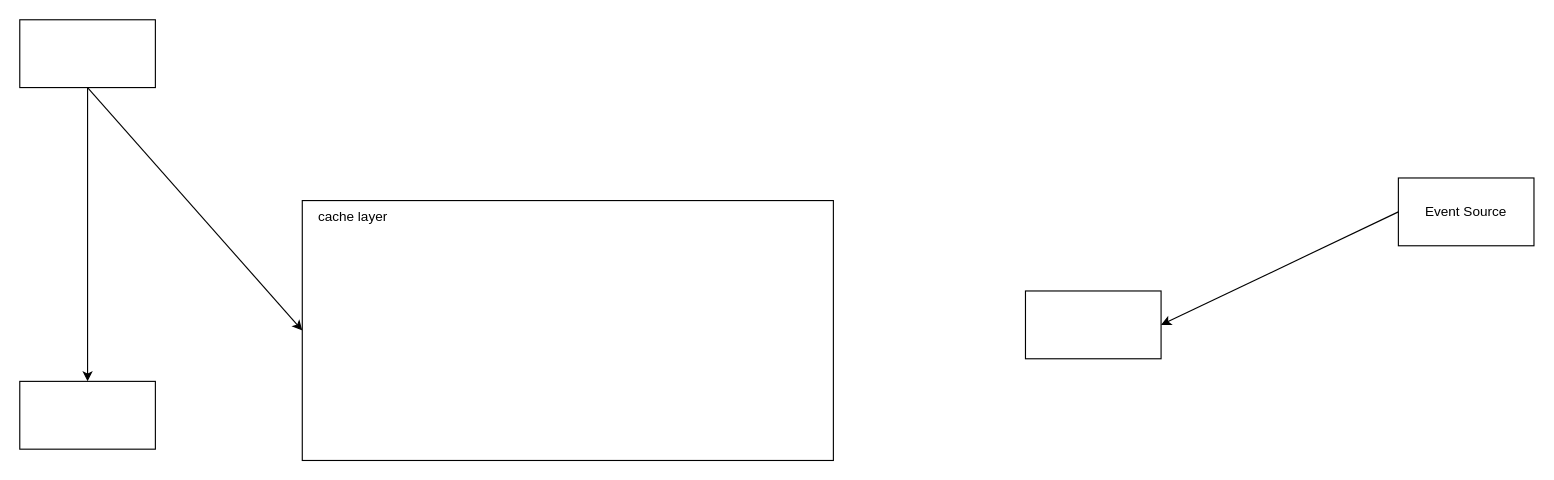
This 1554x480 diagram has some shape labels left out. Each missing label, with the centre of its shape:
"consumer" belongs at point (1092, 324).
"Query" belongs at point (87, 53).
